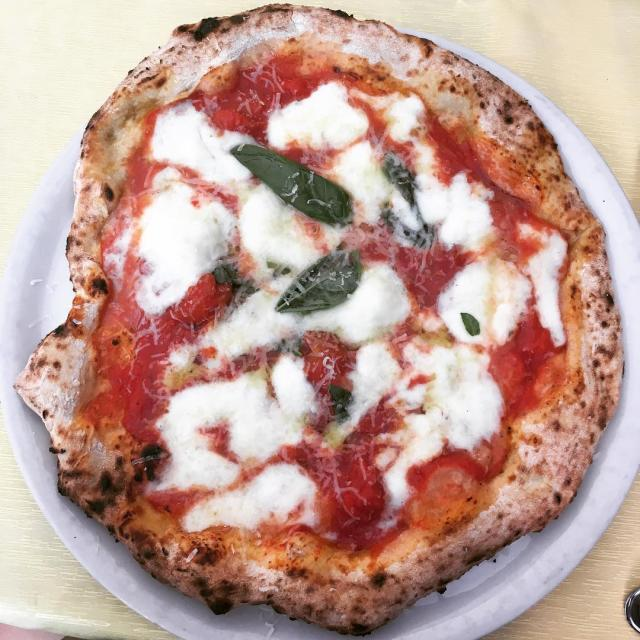basil: (227, 137, 360, 229), (270, 243, 366, 316), (379, 154, 434, 245), (218, 255, 290, 301), (308, 375, 355, 427), (454, 309, 483, 340)
pizza: (18, 5, 622, 633)
